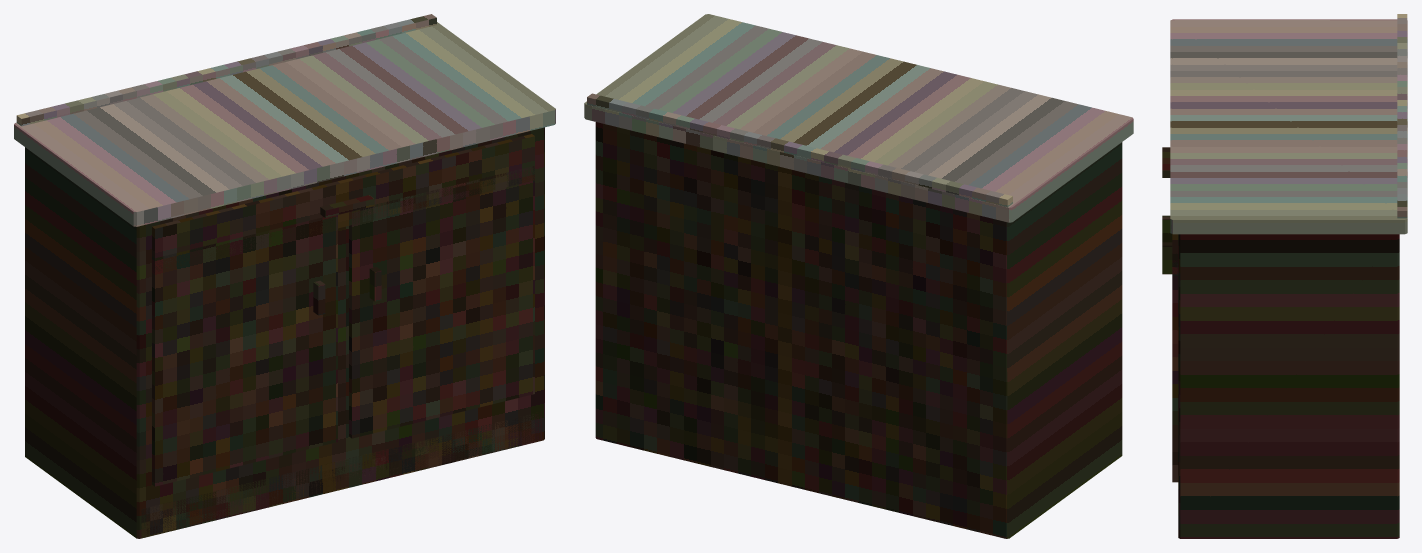
The model's file is Counter.glb.
3 renders of one model, left to right at view 1: azimuth 30°, elevation 25°; view 2: azimuth 150°, elevation 25°; view 3: azimuth 270°, elevation 25°, orthographic. The views are drawn at different scales.
Visible parts, largest first — view 1: Counter; view 2: Counter; view 3: Counter.
Boxes of the visible parts, x1=… form: Counter: x1=14, y1=14, x2=555, y2=538; Counter: x1=584, y1=14, x2=1133, y2=538; Counter: x1=1162, y1=14, x2=1407, y2=538.
Size of the model in its own units: 1.2 by 0.92 by 0.62.
Materials: 2 (2 with a texture image).
